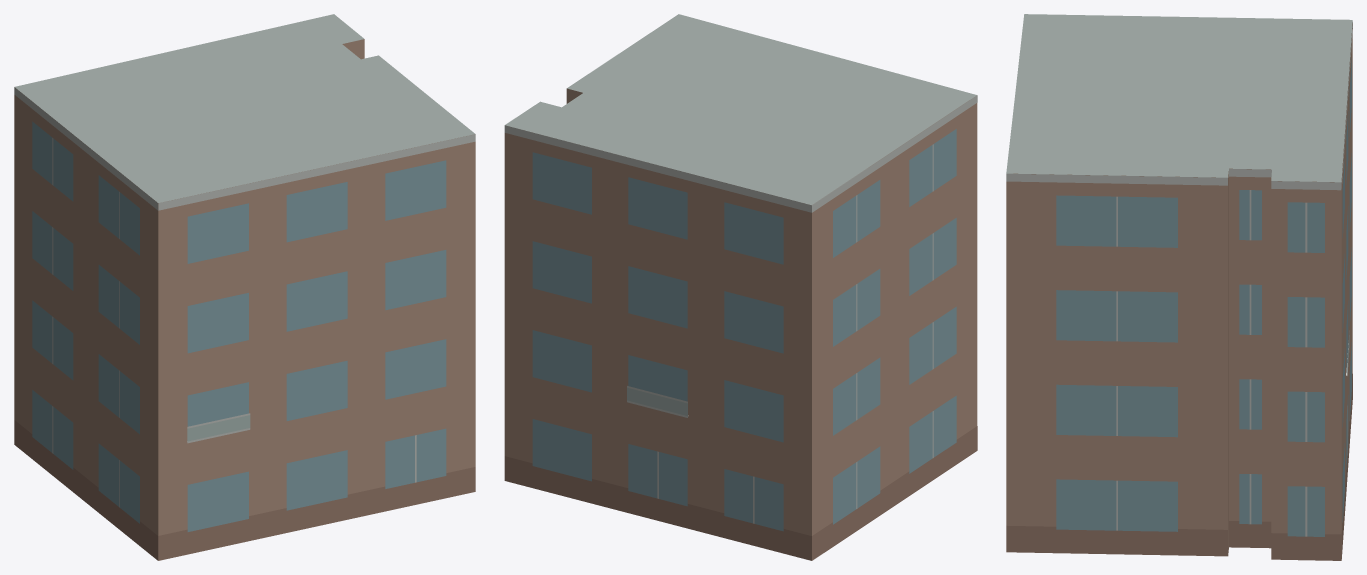
File: survey-upis-32838810.glb
3 views of the same model, side by side, from view 1: azimuth 30°, elevation 25°; view 2: azimuth 150°, elevation 25°; view 3: azimuth 270°, elevation 25° (orthographic). The views are drawn at different scales.
Parts seen in each view (by area): view 1: survey-upis-32838810.tmp; view 2: survey-upis-32838810.tmp; view 3: survey-upis-32838810.tmp.
Boxes of the visible parts, x1,y1,x2,y2 form: survey-upis-32838810.tmp: (14,14,475,560); survey-upis-32838810.tmp: (504,14,977,560); survey-upis-32838810.tmp: (1006,14,1352,560).
Bounding box in the file's own units: 11.04 × 11.57 × 9.61.
